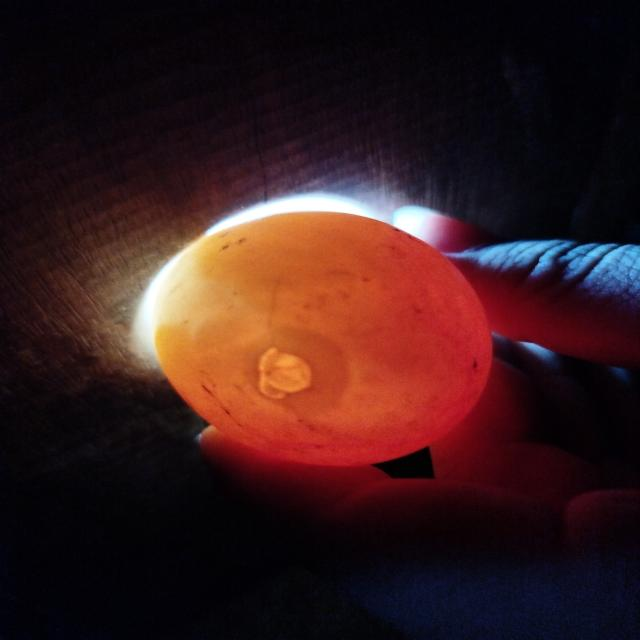Rachadura: (258, 346, 311, 400)
